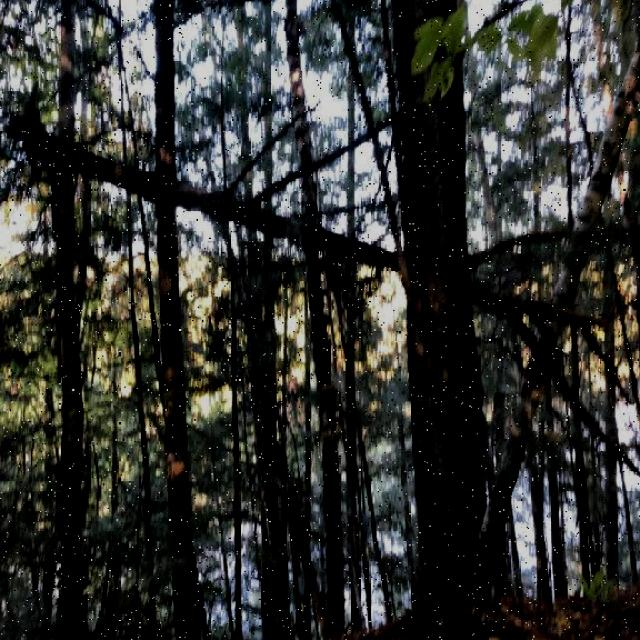fallen_object: (25, 91, 640, 493)
